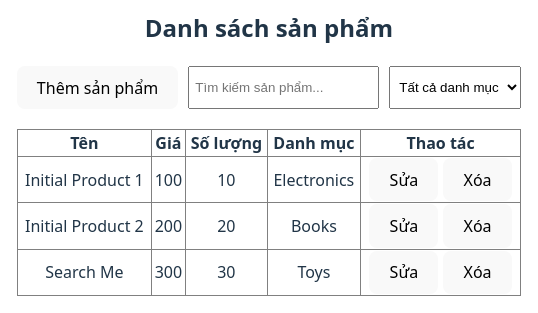
Scenario: Product E2E Automation Testing › should allow a user to filter products by category
Select "Books" in the dropdown named "category" at (455, 88), box [389, 66, 521, 109]
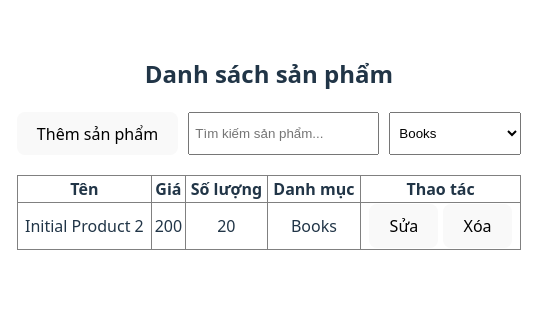
Expected: the cell "Initial Product 2" is shown, [17, 203, 152, 249]
Expected: the cell no longer shows "Initial Product 1"
